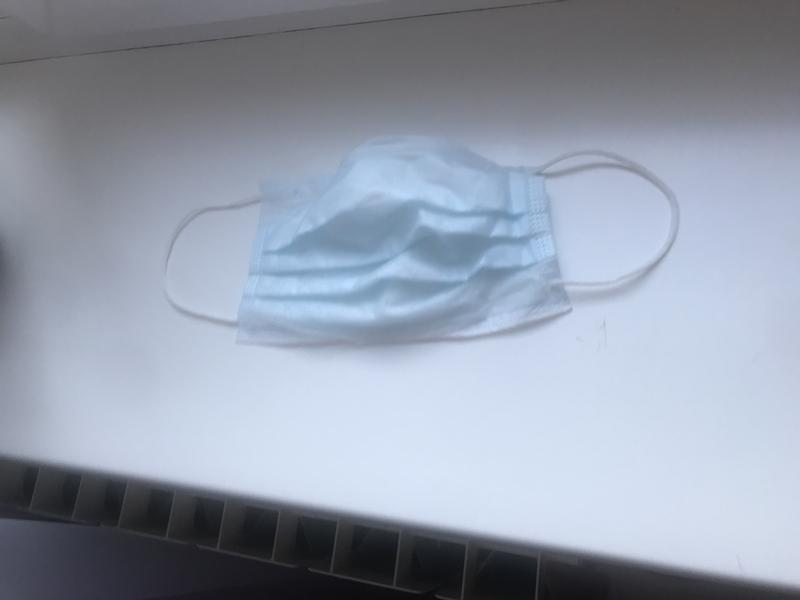medical_mask: (160, 141, 678, 342)
